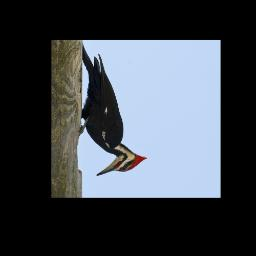Woodpecker: (80, 54, 150, 177)
